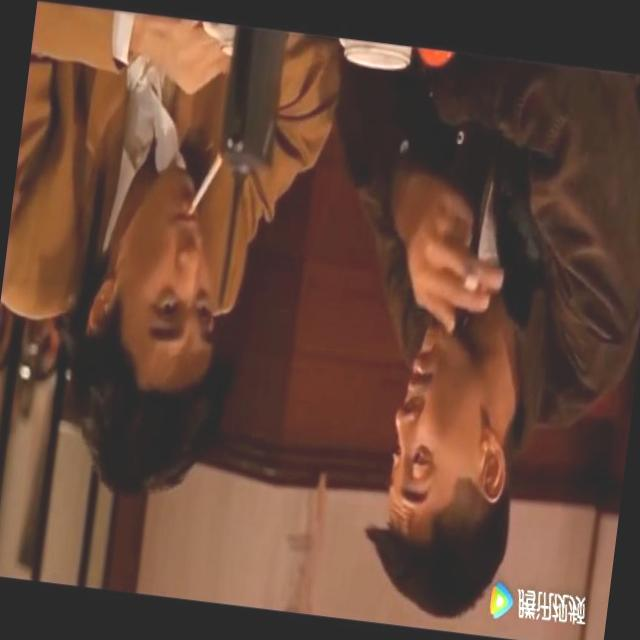smoke: (180, 146, 226, 235)
